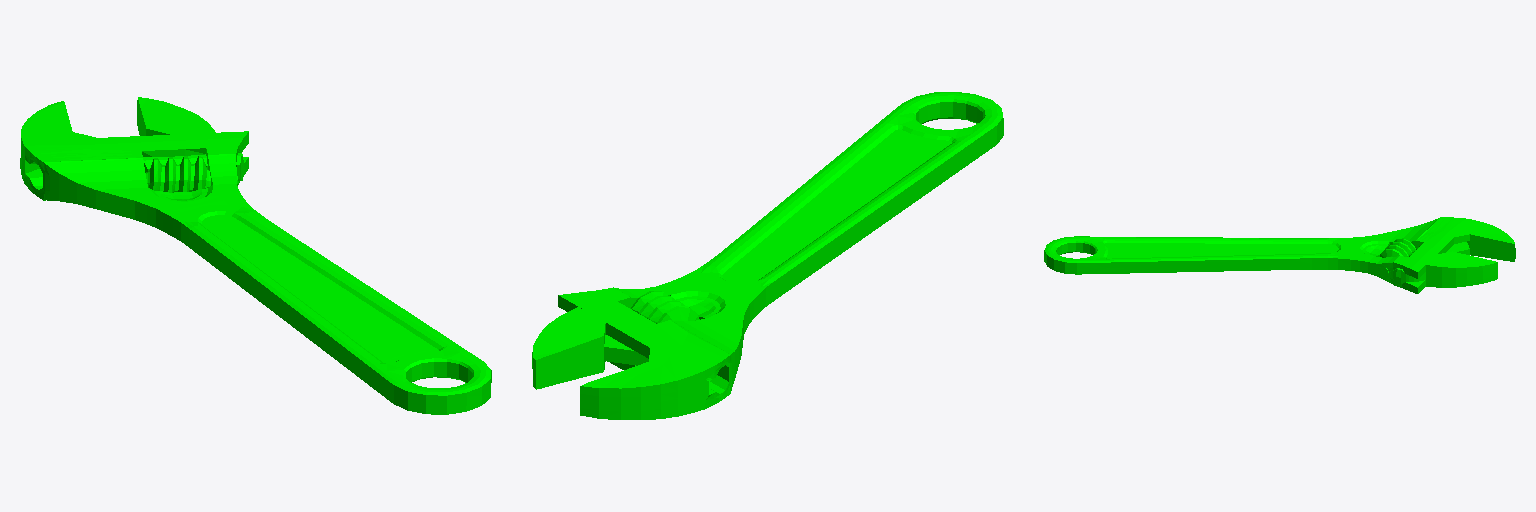
robot.urdf — block:

    <robot name="block">
      <link name="block_base_link">
        <inertial>
            <origin rpy="0 0 0" xyz="0 0 0"/>
            <mass value="0.1"/>
            <inertia ixx="0.1" ixy="0" ixz="0" iyy="0.1" iyz="0" izz="0.1"/>
        </inertial>
        
        <visual>
          <origin rpy="0 0 0" xyz="0 0 0"/>
          <geometry>
            <mesh filename="dataset/toolbox_cad/tn/plier/13_raw.obj" scale="1 1 1"/>
          </geometry>
            <material name="0_1_0_1">
                <color rgba="0 1 0 1"/>
            </material>
        </visual>

        
        <collision>
          <origin rpy="0 0 0" xyz="0 0 0"/>
          <geometry>
            <mesh filename="dataset/toolbox_cad/tn/plier/13_raw.obj" scale="1 1 1"/>
          </geometry>
            <material>
                <color rgba="0 1 0 1"/>
            </material>
        </collision>

      </link>
    </robot>

--- Facts derived from the render (not from the file) ---
Views: 3 orthographic renders of the robot side by side, from view 1: azimuth 30°, elevation 25°; view 2: azimuth 150°, elevation 25°; view 3: azimuth 270°, elevation 25°.
Robot: block — 1 links, 0 joints (none); root link block_base_link; default pose: every joint at zero.
Links seen in each view (by area): view 1: block_base_link; view 2: block_base_link; view 3: block_base_link.
Boxes of the visible links, box(x1,y1,x2,y2) form: block_base_link: box(20, 97, 491, 414); block_base_link: box(532, 92, 1003, 419); block_base_link: box(1044, 217, 1515, 293).
Bounding box of the posed robot: 0.0494 × 0.18 × 0.012 m (x, y, z).
1 mesh visuals loaded from 1 distinct referenced files (1 OBJ).
